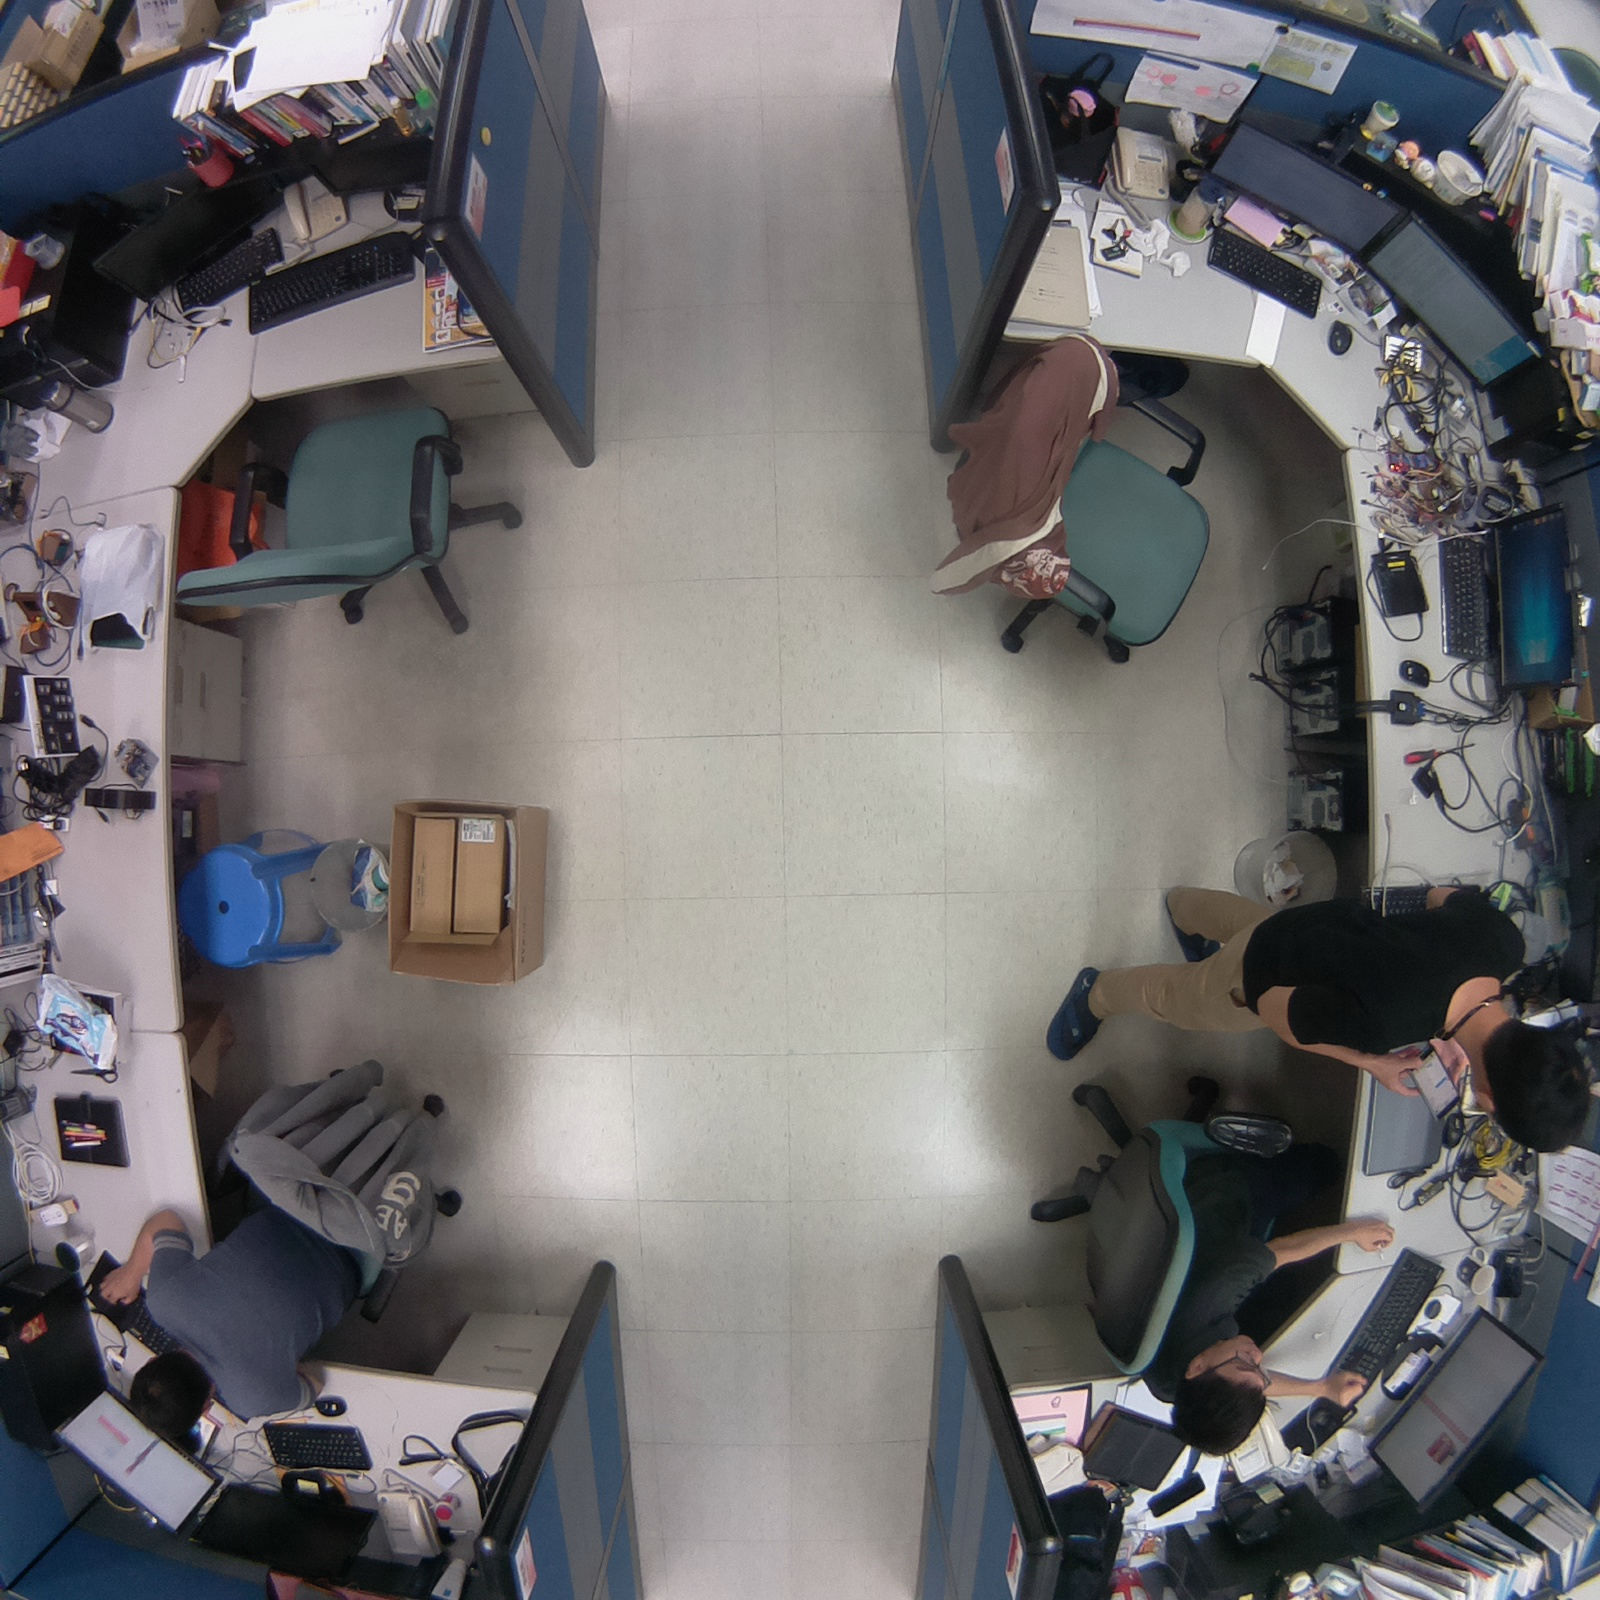chair: (922, 311, 1227, 686), (150, 386, 542, 652)
head: (1474, 1010, 1597, 1169), (1166, 1327, 1278, 1463), (115, 1343, 223, 1451)
sitting: (90, 1032, 491, 1438), (1022, 1068, 1393, 1466)
standing: (1044, 869, 1600, 1165)
